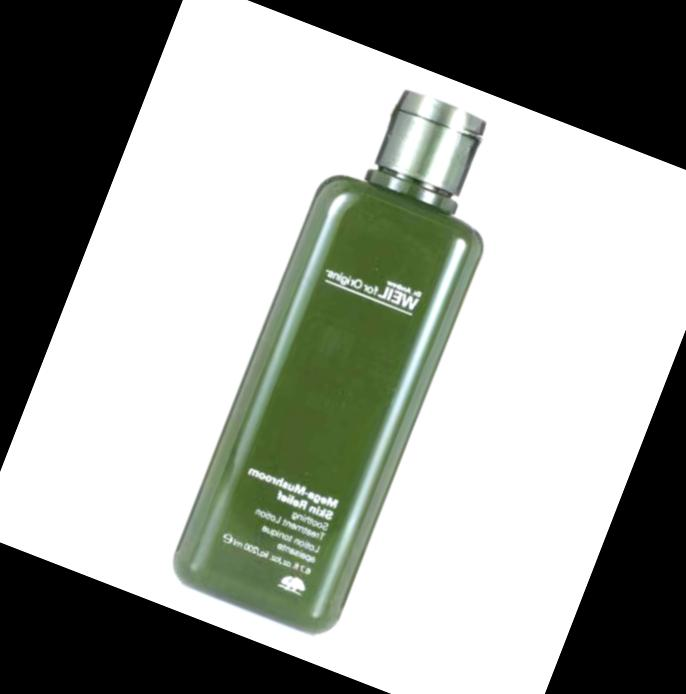cosmetic: (161, 63, 533, 647)
